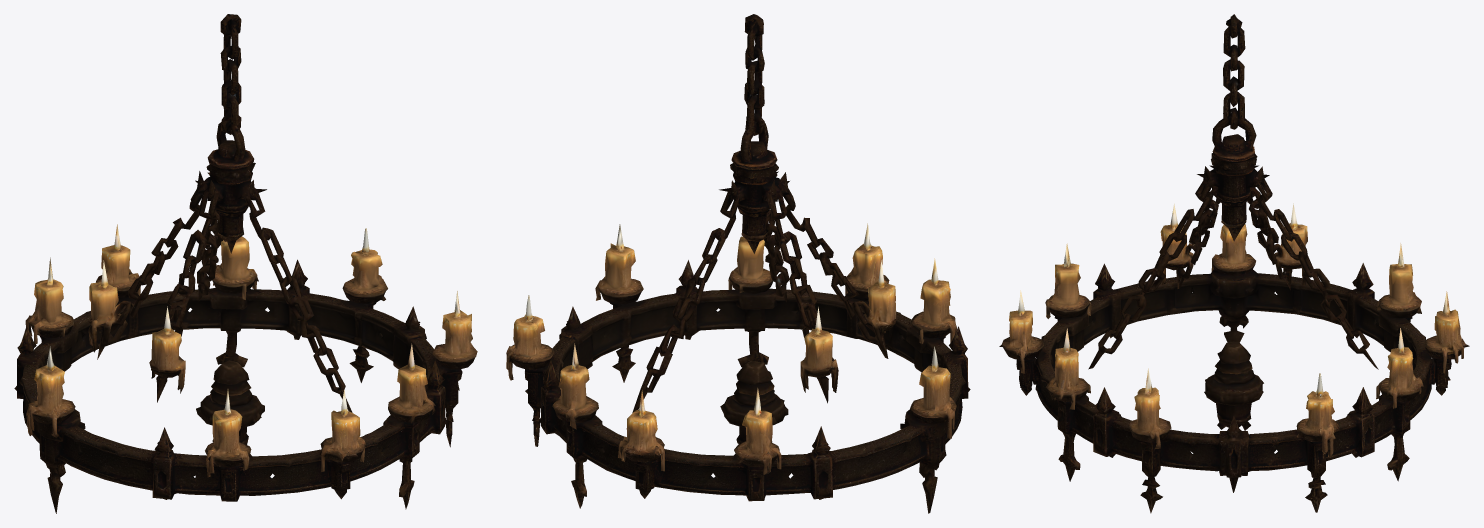
Rendered from raw_chandelier.glb.
3 renders of one model, left to right at view 1: azimuth 30°, elevation 25°; view 2: azimuth 150°, elevation 25°; view 3: azimuth 270°, elevation 25°, orthographic. The views are drawn at different scales.
Parts seen in each view (by area): view 1: tripo_node_8ede0c7a-e5db-43fe-abb4-c90765922399; view 2: tripo_node_8ede0c7a-e5db-43fe-abb4-c90765922399; view 3: tripo_node_8ede0c7a-e5db-43fe-abb4-c90765922399.
Boxes of the visible parts, <box> form: tripo_node_8ede0c7a-e5db-43fe-abb4-c90765922399: <box>14,14,477,513</box>; tripo_node_8ede0c7a-e5db-43fe-abb4-c90765922399: <box>506,14,970,513</box>; tripo_node_8ede0c7a-e5db-43fe-abb4-c90765922399: <box>999,14,1469,513</box>.
Size of the model in its own units: 0.8652 by 1 by 0.9347.
1 material, 1 textured.
